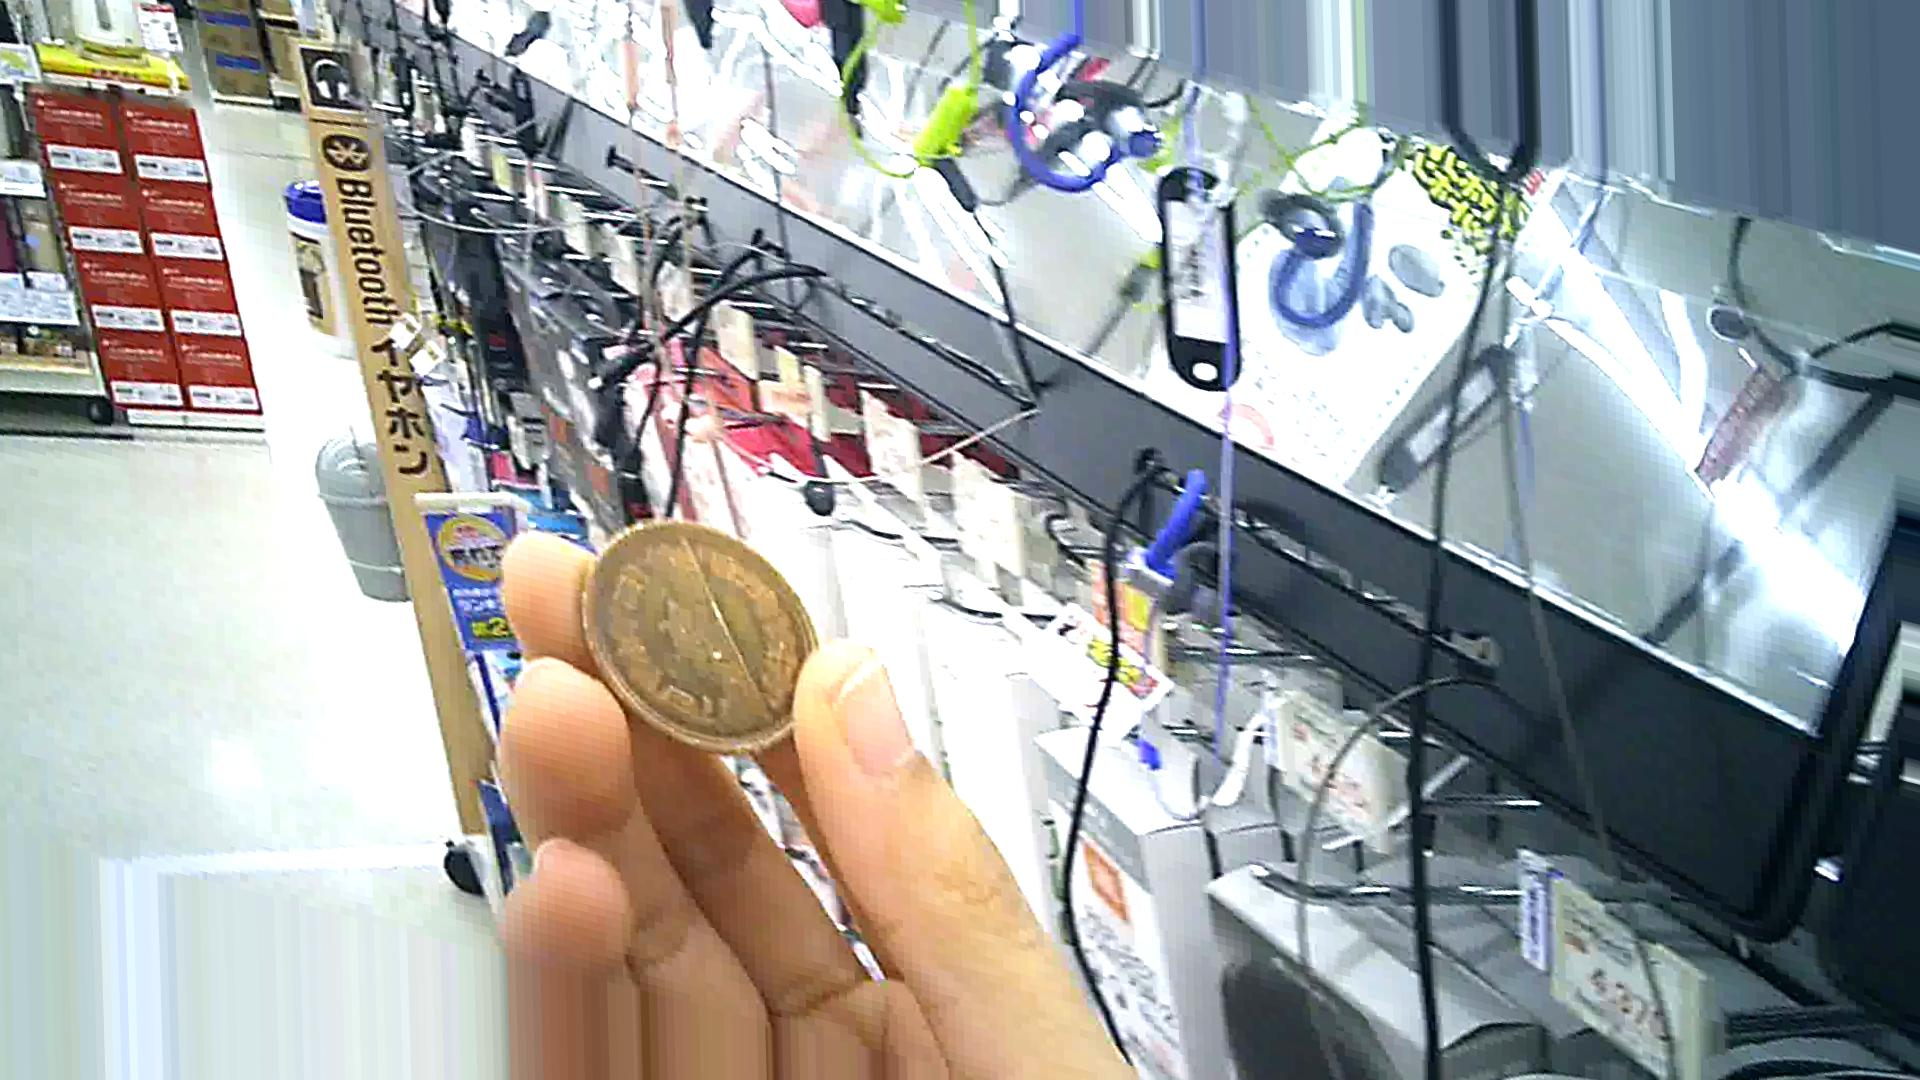10 Yen: (564, 501, 819, 748)
